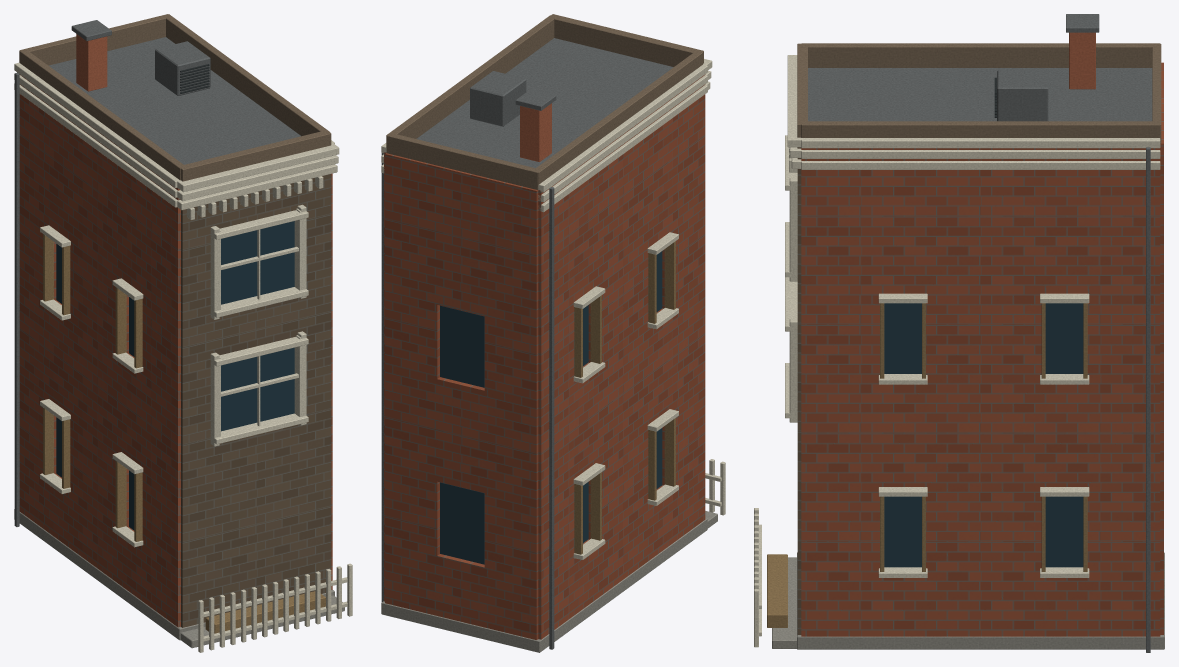
The model's file is VICT18_lod1.glb.
3 views of the same model, side by side, from view 1: azimuth 30°, elevation 25°; view 2: azimuth 150°, elevation 25°; view 3: azimuth 270°, elevation 25° (orthographic). The views are drawn at different scales.
Visible parts, largest first — view 1: VICT18_LOD1; view 2: VICT18_LOD1; view 3: VICT18_LOD1.
Part boxes in pixels (x1=…): VICT18_LOD1: x1=14, y1=14, x2=352, y2=652; VICT18_LOD1: x1=381, y1=14, x2=725, y2=652; VICT18_LOD1: x1=754, y1=14, x2=1164, y2=652.
Bounding box in the file's own units: 3.71 × 10.45 × 6.87.
11 materials, 9 textured.
